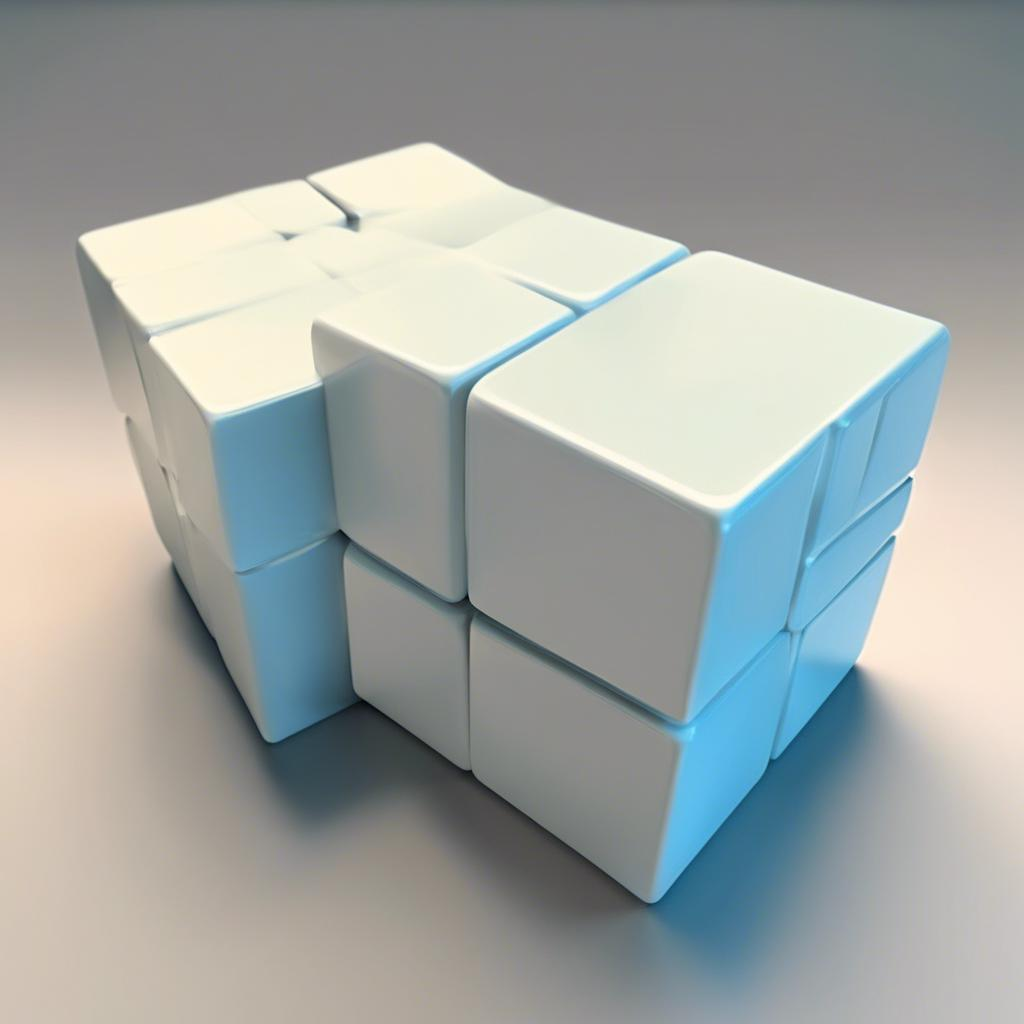cube: (304, 225, 950, 904), (74, 142, 648, 744)
